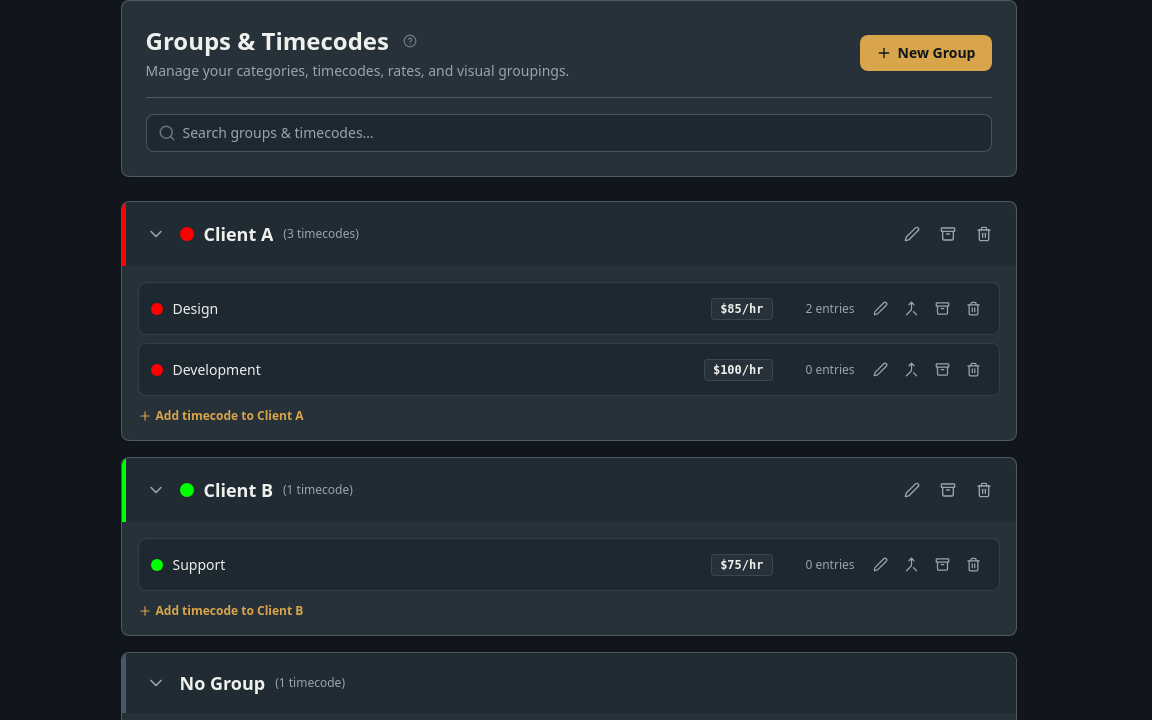
GroupingManagement Redesigned View › filters groups and timecodes via search input
Type "Design" into the field with placeholder "Search groups & timecodes…" at [568, 133], box [146,114,992,152]
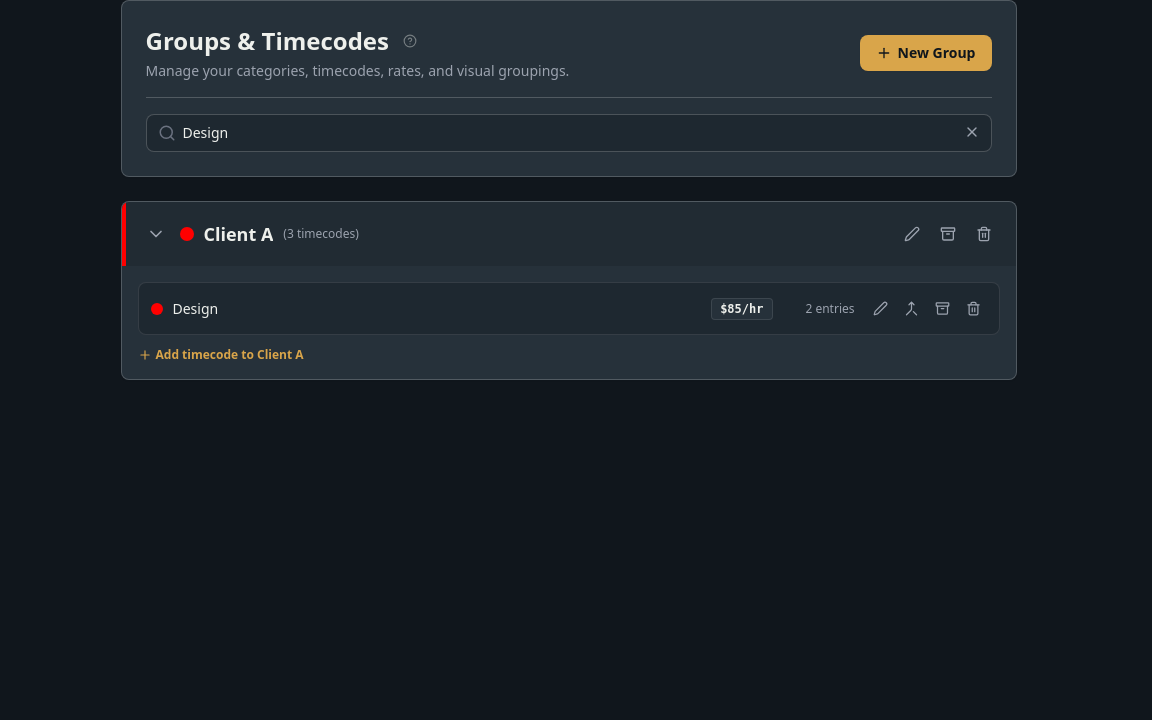
Expected: the text "Client A" is shown, [204,220,273,248]
Result: the text "Client B" is gone
Result: the text "Support" is gone
